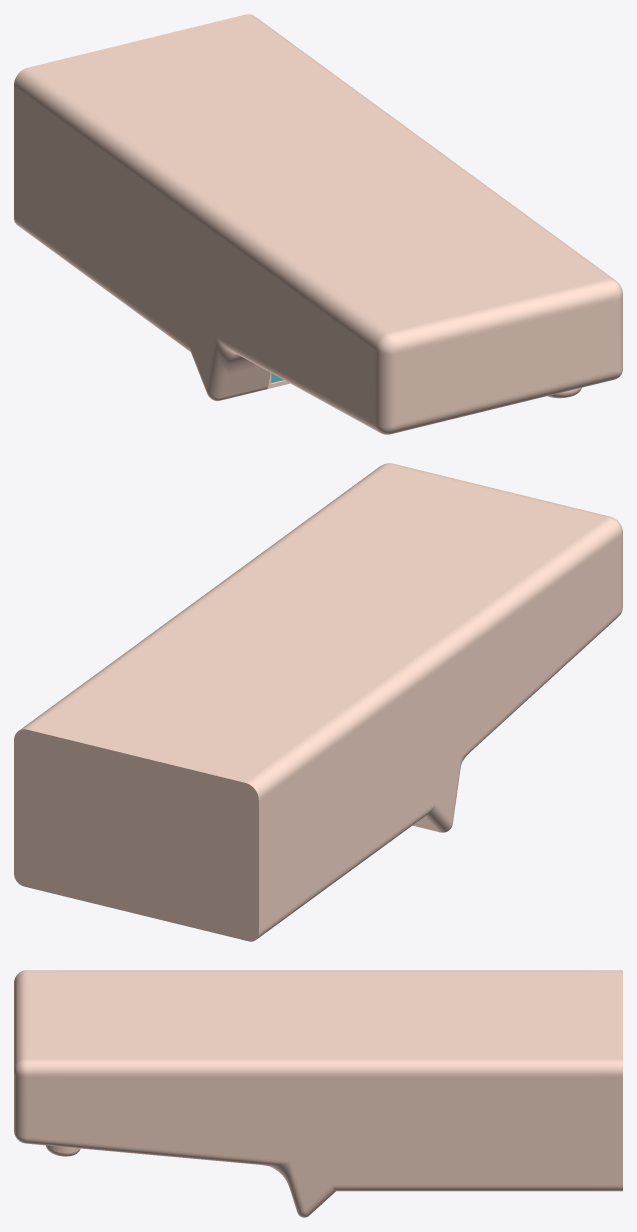
The model's file is Kiosk.obj.
3 renders of one model, top to bottom at view 1: azimuth 30°, elevation 25°; view 2: azimuth 150°, elevation 25°; view 3: azimuth 270°, elevation 25°, orthographic. The views are drawn at different scales.
Visible parts, largest first — view 1: Body4; view 2: Body4; view 3: Body4.
Boxes of the visible parts, x1,y1,x2,y2 form: Body4: [14, 14, 622, 434]; Body4: [14, 463, 622, 941]; Body4: [14, 970, 622, 1217].
Bounding box in the file's own units: 65 × 48.18 × 170.
